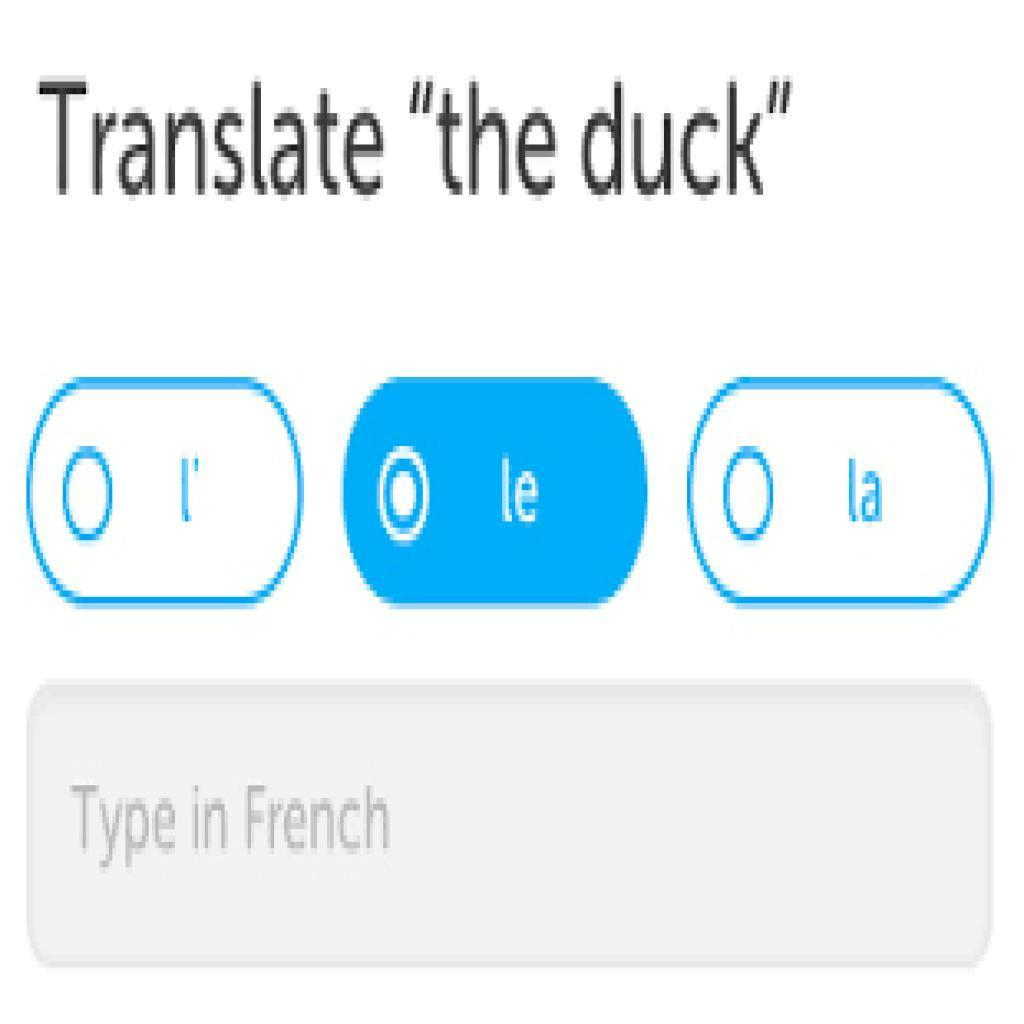input: (30, 684, 993, 963)
radio: (369, 422, 442, 559), (52, 435, 126, 559), (716, 429, 782, 551)
